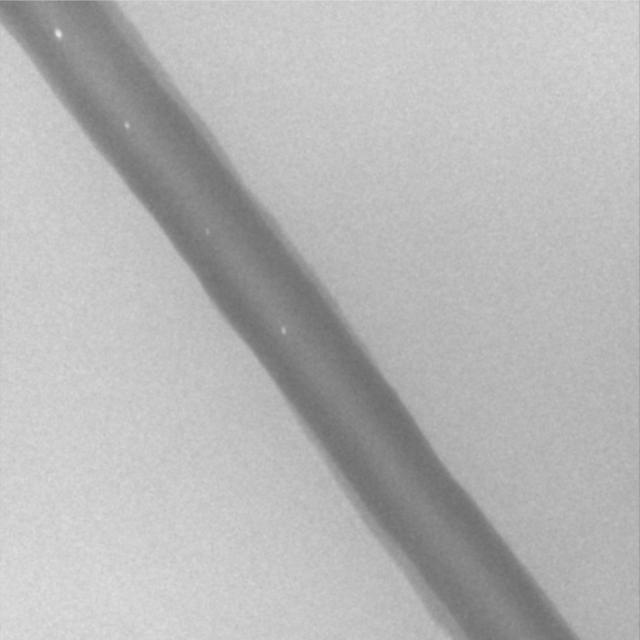air hole: (53, 27, 63, 41), (279, 325, 288, 337), (204, 227, 211, 238), (122, 122, 130, 131)
